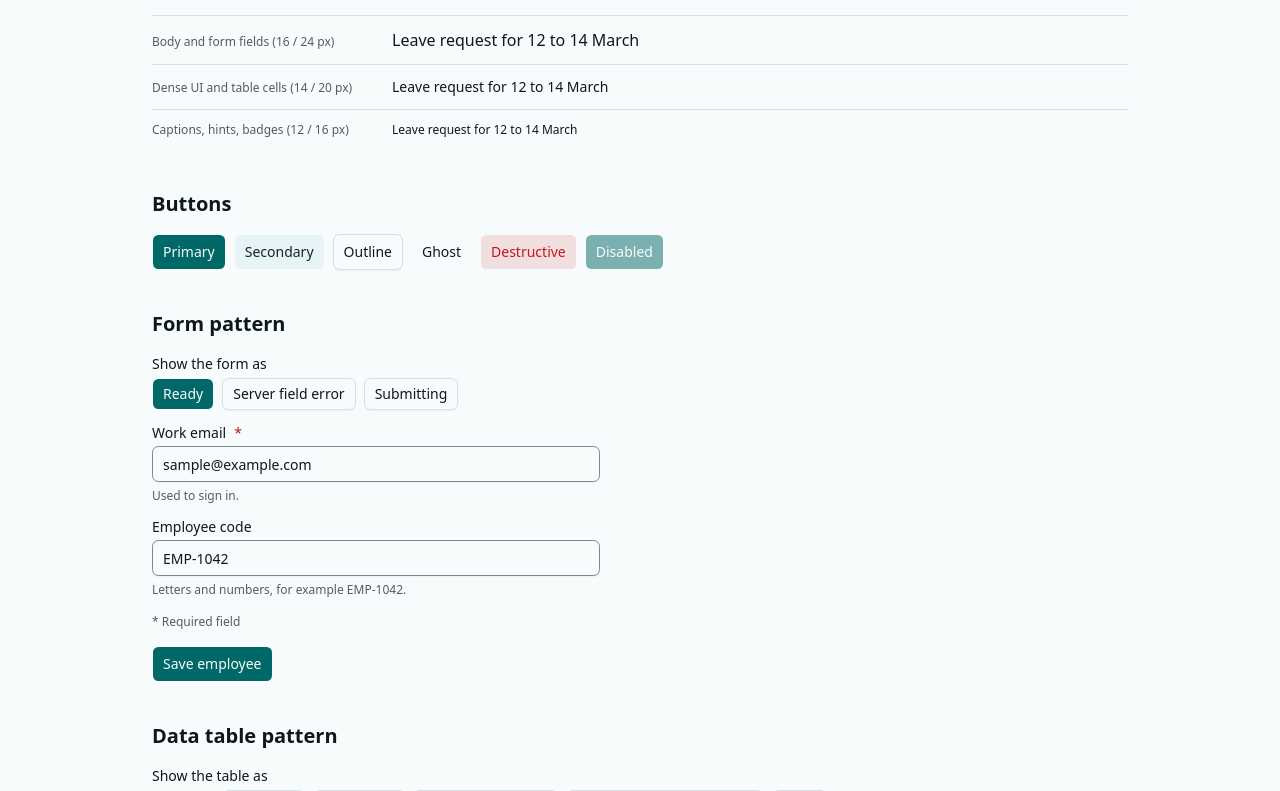
Test case: FoundationPreview › form states › disables the form and shows progress while submitting
(page scrolled)
What coordinates should you click on to do the following:
click the button "Submitting"
I would click on:
 (411, 394)
Its box is [364, 378, 458, 410].
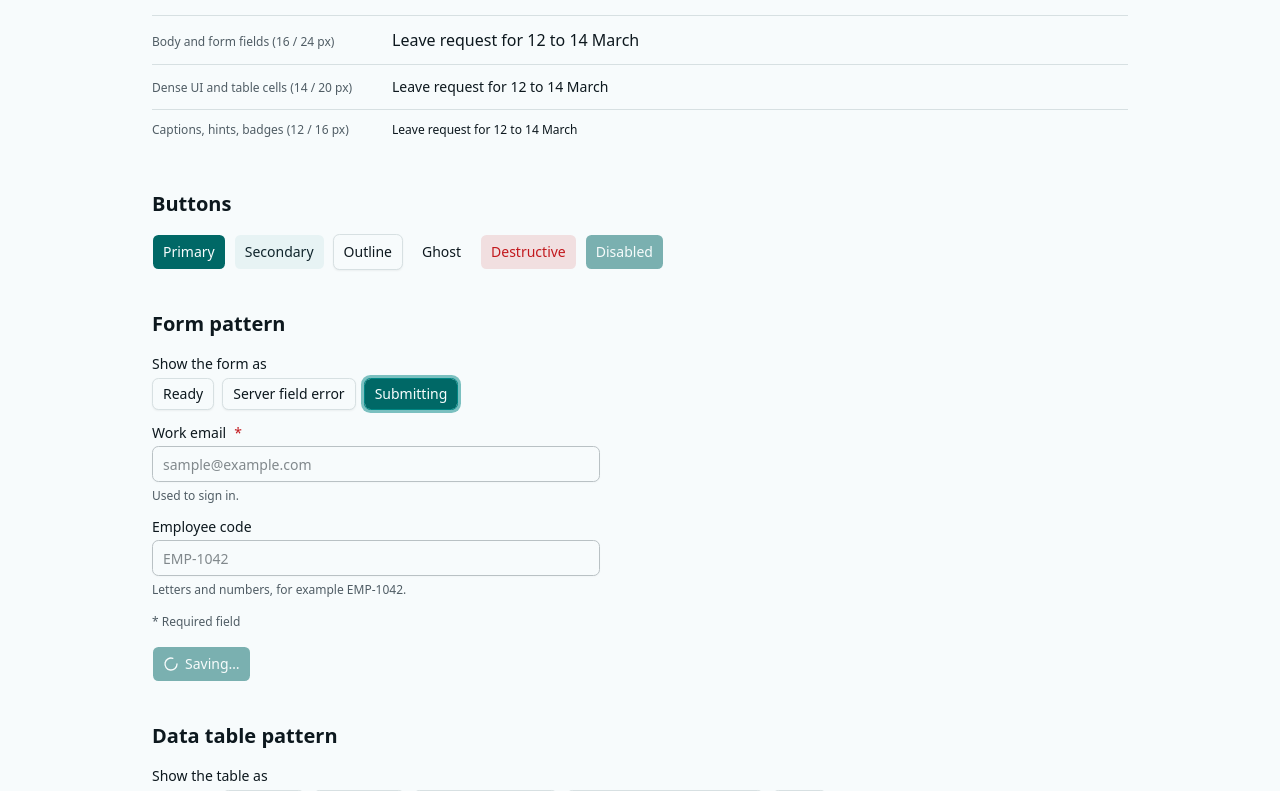
Expected: the button "Saving…" is disabled, [152, 646, 251, 682]
Expected: the field labelled "Work email *" is disabled, [152, 446, 600, 482]
